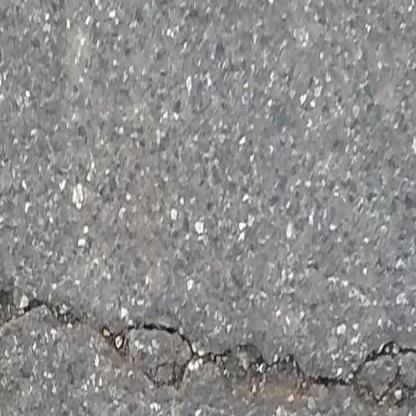Cracks: (97, 318, 416, 416), (0, 284, 90, 355)
